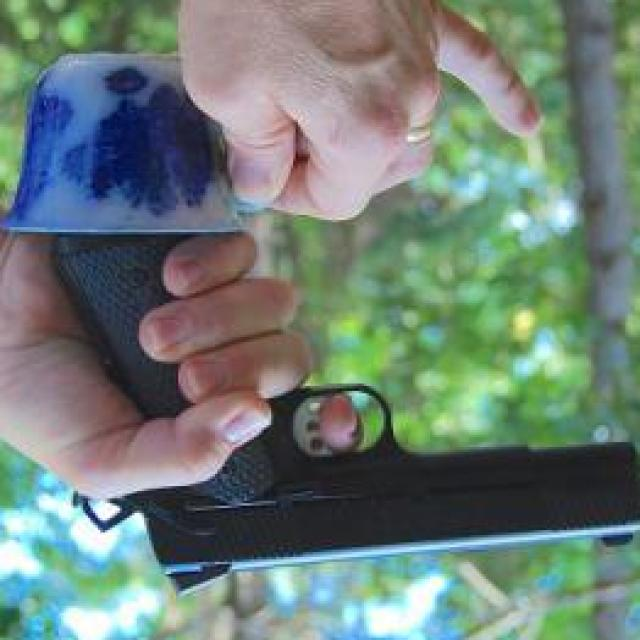pistol: (54, 235, 640, 599)
